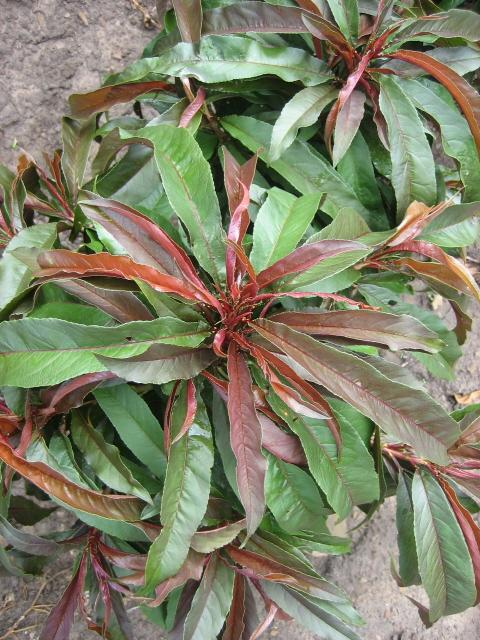Peach leaf: (257, 317, 463, 467), (103, 121, 227, 289), (243, 382, 382, 529), (1, 313, 210, 398), (139, 394, 219, 598), (99, 31, 355, 94), (403, 461, 480, 636), (231, 186, 336, 292), (248, 448, 351, 554), (375, 65, 440, 224)
